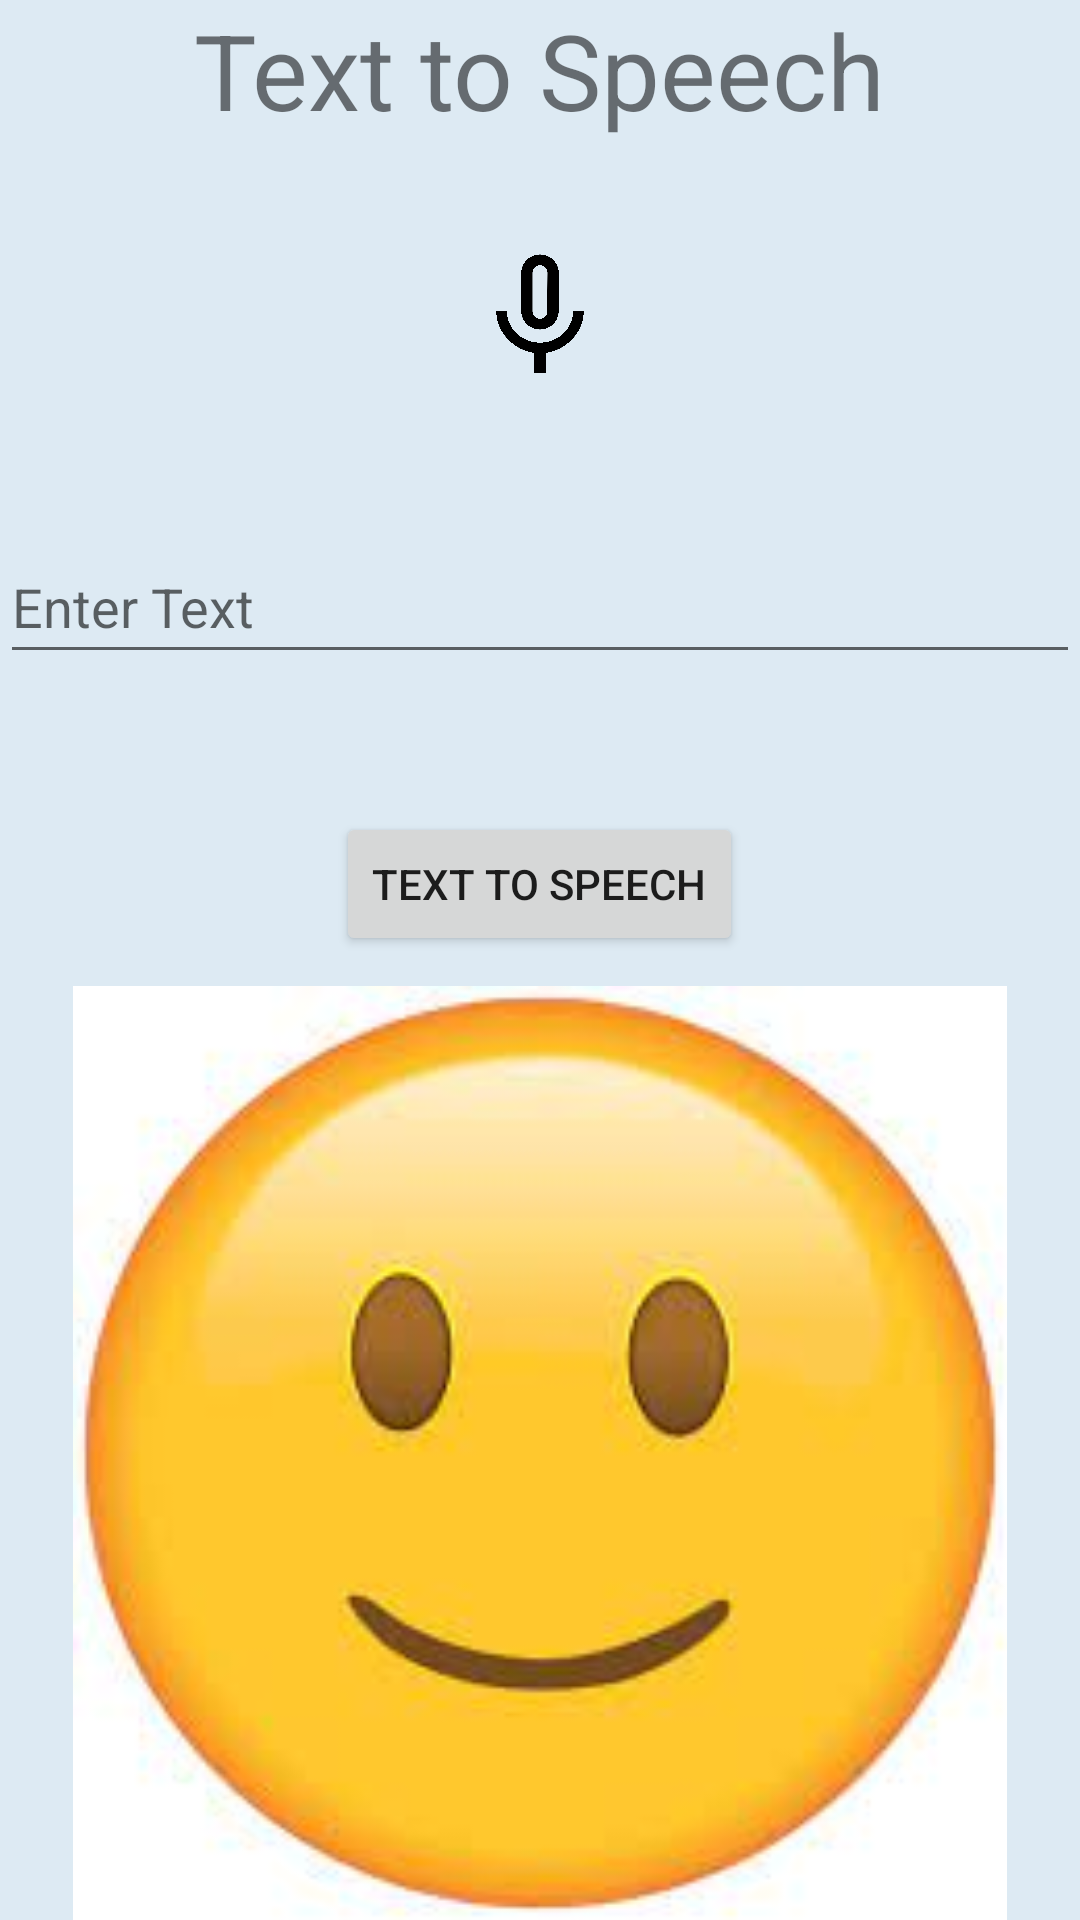

Named icons in this screenshot (1080px x 1920px) and their centers, (x,y):
mic none: (540,313)
